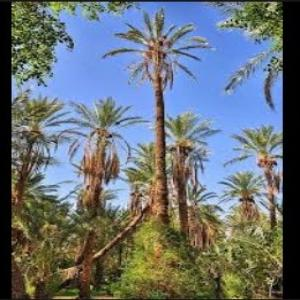palm tree: (100, 6, 214, 260), (44, 95, 149, 298), (160, 111, 220, 240)
